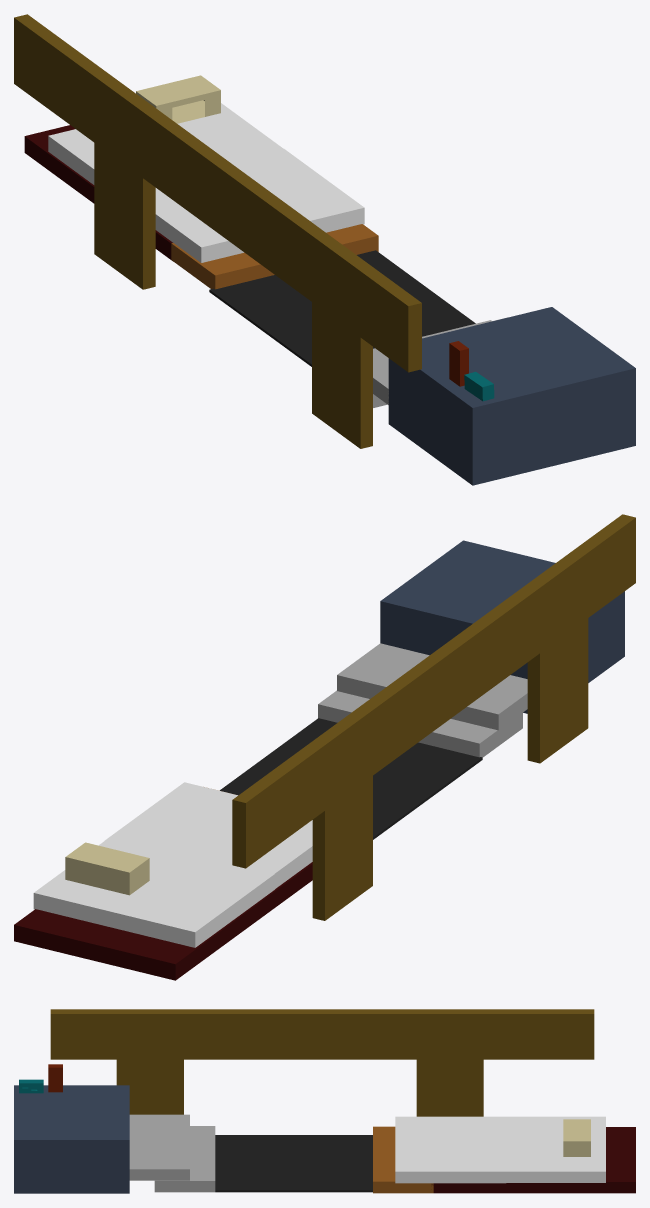
Rendered from Escena FPS_Moreno_Valeria.fbx.
3 views of the same model, one above another, from view 1: azimuth 30°, elevation 25°; view 2: azimuth 150°, elevation 25°; view 3: azimuth 270°, elevation 25° (orthographic). The views are drawn at different scales.
Visible parts, largest first — view 1: pCube10, pCube7, pCube4, pCube5, pCube1, pCube12, pCube11, pCube8, pCube6, pCube15, pCube9, pCube3 (+2 smaller); view 2: pCube10, pCube8, pCube5, pCube9, pCube4, pCube1, pCube11, pCube12, pCube7, pCube3, pCube2, pCube15; view 3: pCube10, pCube1, pCube5, pCube4, pCube7, pCube8, pCube3, pCube12, pCube9, pCube11, pCube2, pCube6 (+3 smaller).
Part boxes in pixels (x1,y1,x2,y2): pCube10: (14,14,421,372); pCube7: (429,336,635,485); pCube4: (388,307,594,455); pCube5: (155,148,364,262); pCube1: (209,250,475,366); pCube12: (94,143,155,289); pCube11: (312,302,372,448); pCube8: (48,103,289,184); pCube6: (171,224,378,289); pCube15: (136,75,220,123); pCube9: (24,125,172,260); pCube3: (373,317,507,404); pCube10: (232,514,635,868); pCube8: (33,840,274,947); pCube5: (105,782,312,888); pCube9: (14,862,312,980); pCube4: (380,569,527,713); pCube1: (220,718,482,839); pCube11: (527,618,588,763); pCube12: (312,776,372,920); pCube7: (422,540,624,682); pCube3: (337,643,527,730); pCube2: (318,690,522,757); pCube15: (65,842,149,895); pCube10: (50,1009,594,1059); pCube1: (215,1135,372,1192); pCube5: (395,1116,506,1183); pCube4: (69,1085,129,1193); pCube7: (14,1085,74,1193); pCube8: (506,1116,605,1182); pCube3: (129,1114,189,1180); pCube12: (416,1059,483,1116); pCube9: (431,1127,635,1193); pCube11: (116,1059,183,1114); pCube2: (154,1126,215,1192); pCube6: (373,1126,433,1193).
Bounding box in the file's own units: 359 × 296 × 1359.
